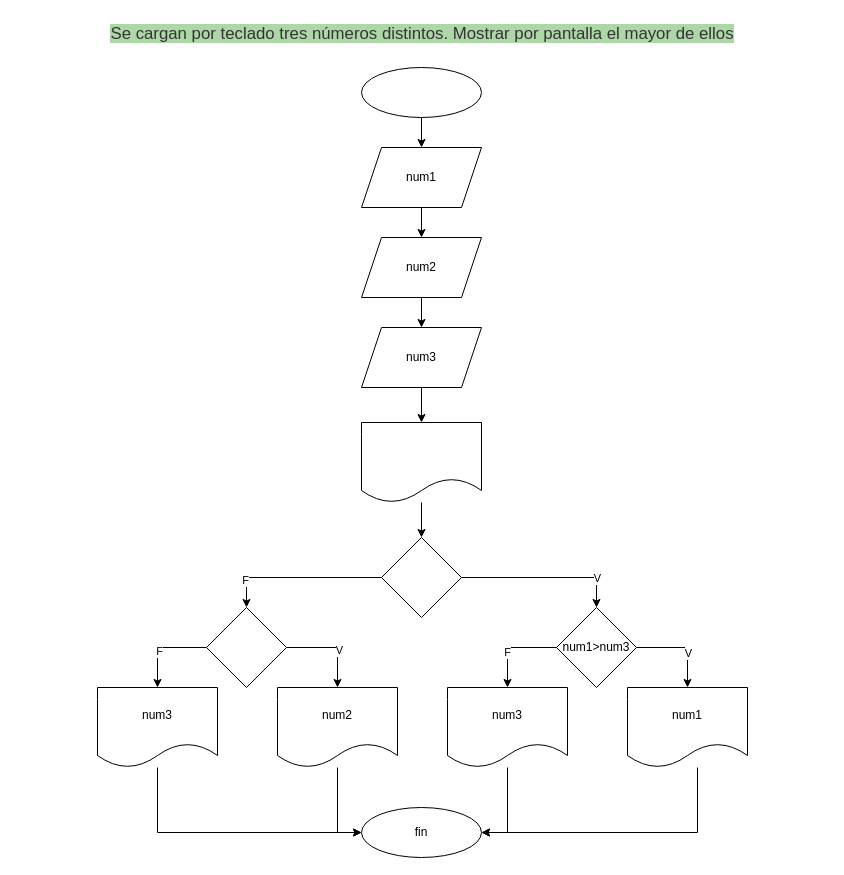
Some shapes in this 844 by 875 pixel diagram are drawn without their labels. The shapes that lost their labels are listed below. From the top down, each one's centre as x and y in pixels, then its label:
the point at 421,92: inicio
the point at 421,462: "El valor mayor es"
the point at 421,577: num1>num2
the point at 246,647: num2>num3
